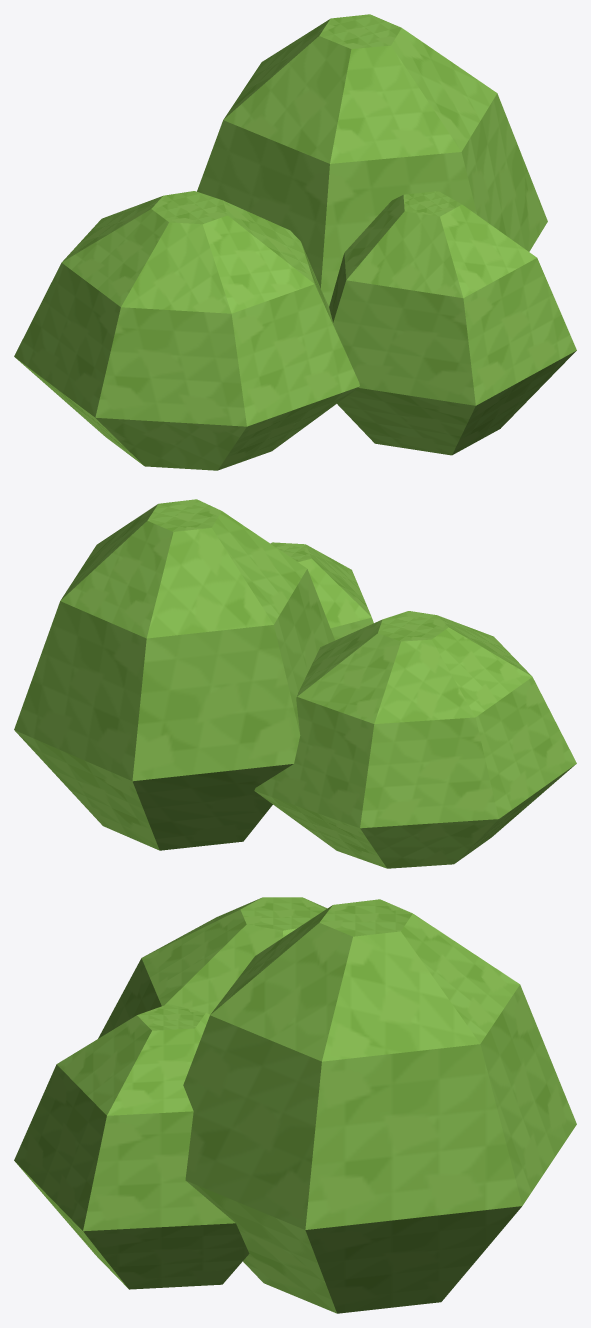
Rendered from town_shrub.glb.
3 views of the same model, one above another, from view 1: azimuth 30°, elevation 25°; view 2: azimuth 150°, elevation 25°; view 3: azimuth 270°, elevation 25° (orthographic). The views are drawn at different scales.
Parts seen in each view (by area): view 1: beach_town_shrub; view 2: beach_town_shrub; view 3: beach_town_shrub.
Part boxes in pixels (x1,y1,x2,y2): beach_town_shrub: (14, 14, 576, 470); beach_town_shrub: (14, 499, 576, 868); beach_town_shrub: (14, 897, 576, 1313).
Bounding box in the file's own units: 1.3 × 0.8 × 1.15.
1 material, 1 textured.
